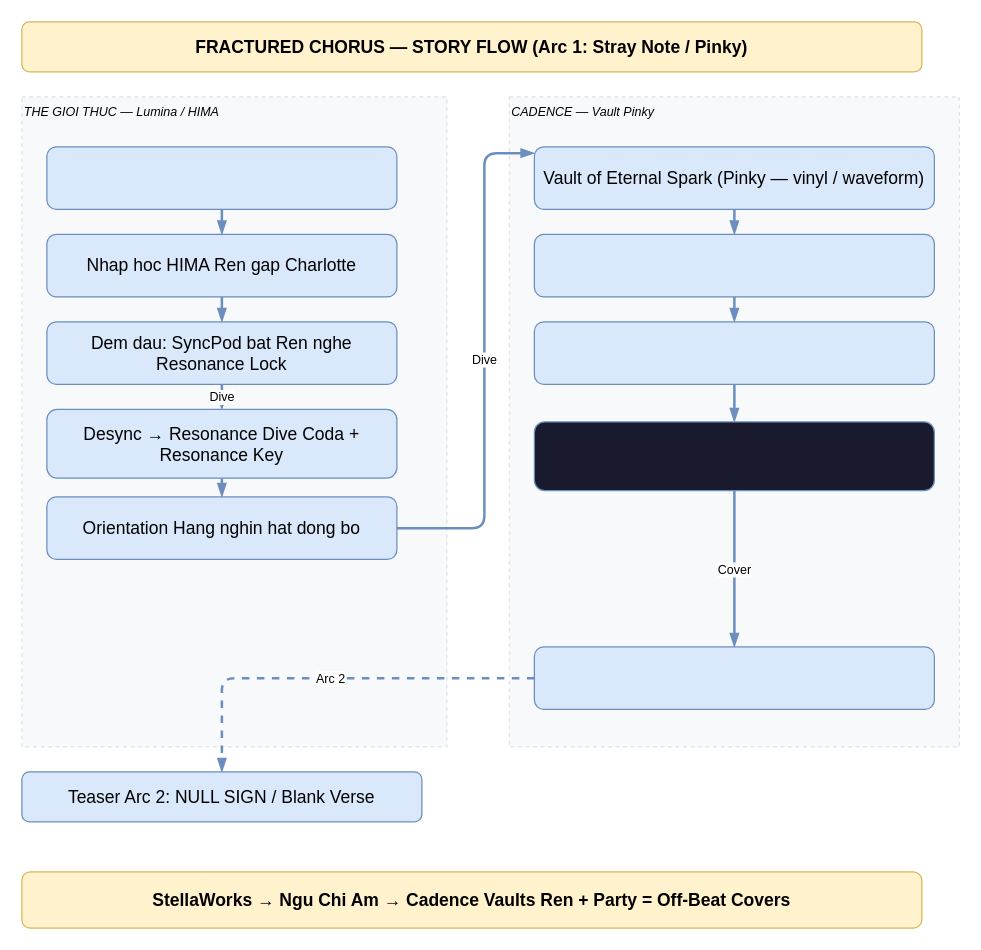
Image size: 981x950. Some labels were removed from this diagram. Here are the shapes that lost their labels. From the top down, the centre of each, then its label:
(x=221, y=177): Prologue: Lumina dem Quang cao Eternal Spark
(x=733, y=265): Combat tutorial Beat Timeline + Interrupt
(x=733, y=352): Charlotte join combat (violin cat Vault)
(x=733, y=456): BOSS: The Spotlight Chart Lord LUXE
(x=733, y=677): Thang → Cover Eternal Spark Resonance Slot 1 unlock
